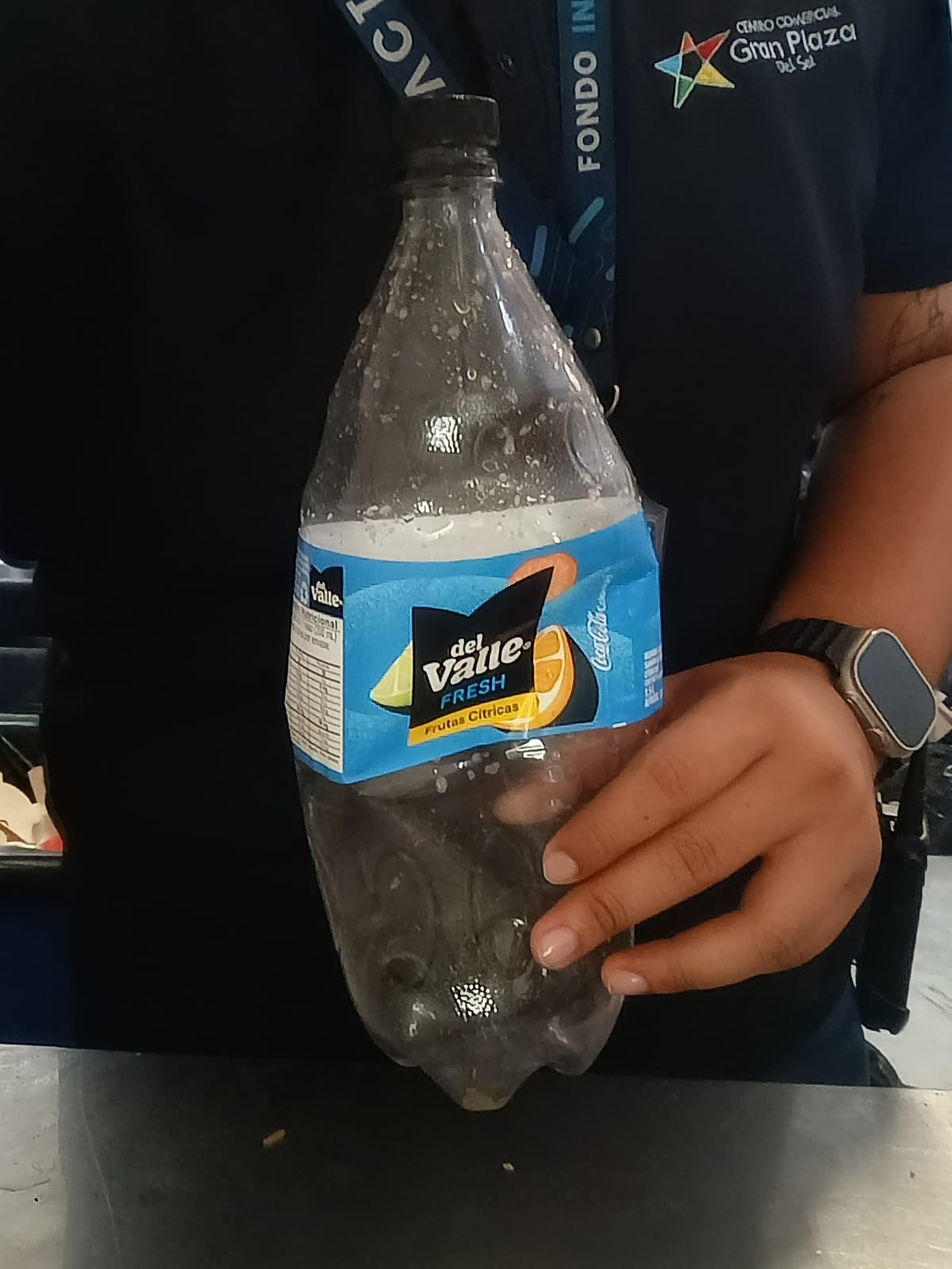Plastico: (281, 99, 662, 1113)
